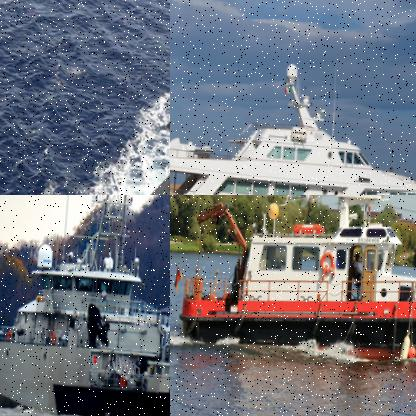Patrol Boat: (170, 195, 415, 368), (0, 195, 169, 415)
Submarine: (51, 0, 169, 194)
Yacht: (170, 50, 415, 194)
